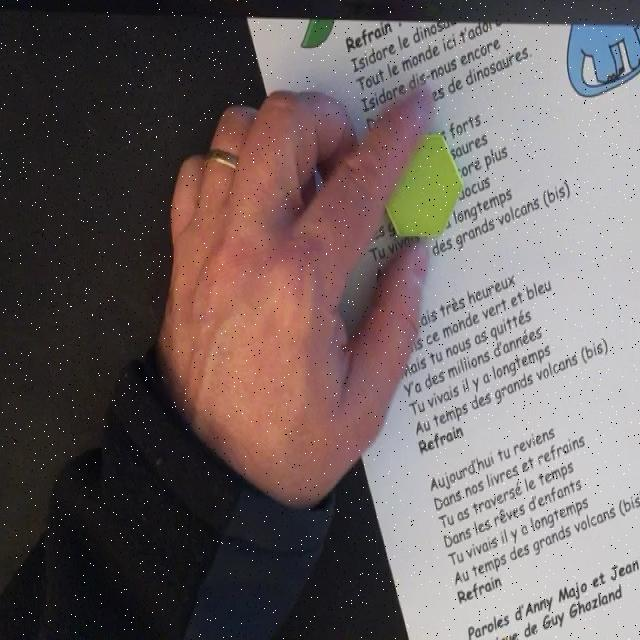hexagon: (376, 128, 466, 242)
